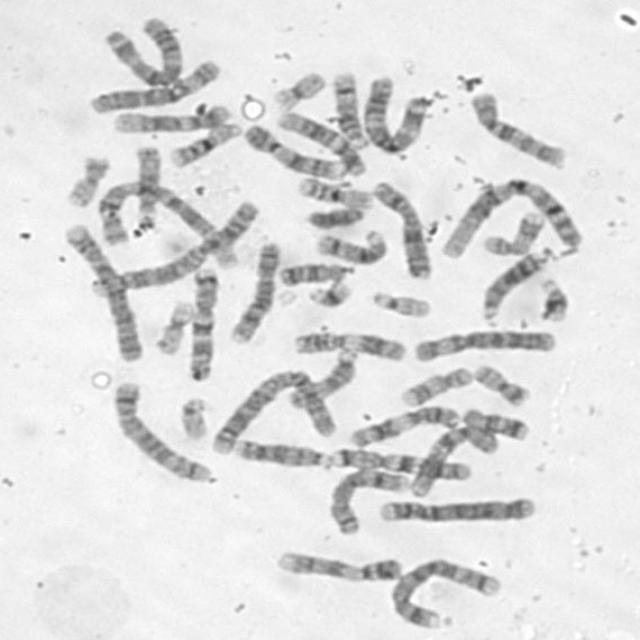A1: (90, 176, 245, 270), (438, 173, 586, 260)
A2: (84, 197, 262, 298), (204, 364, 340, 456)
A3: (97, 11, 185, 88), (359, 70, 434, 155)
B4: (56, 217, 147, 364), (374, 490, 539, 524)
B5: (107, 375, 215, 485), (385, 552, 505, 630)
C10: (464, 84, 572, 171), (402, 418, 502, 498)
C11: (343, 399, 462, 449), (286, 325, 409, 363)
C12: (272, 105, 367, 177), (109, 99, 235, 134)
C6: (84, 54, 225, 116), (409, 323, 561, 364)
C7: (326, 443, 475, 482), (183, 260, 222, 383)
C8: (324, 463, 414, 536), (223, 238, 283, 345)
C9: (238, 118, 351, 180), (271, 544, 405, 585)
D13: (477, 244, 550, 324), (229, 434, 334, 471)
D14: (326, 66, 371, 149), (310, 224, 390, 266)
D15: (283, 342, 360, 411), (131, 141, 164, 216)
E16: (164, 115, 245, 169), (293, 172, 376, 210)
E17: (396, 361, 476, 408), (478, 206, 548, 257)
E18: (457, 402, 532, 442), (274, 256, 356, 287)
F19: (149, 296, 198, 356), (267, 65, 329, 111)
F20: (467, 358, 533, 407), (59, 150, 112, 208)
G21: (533, 271, 574, 324), (302, 276, 355, 310)
G22: (365, 285, 434, 319), (174, 391, 212, 441)
X: (368, 176, 437, 280)
Y: (301, 201, 368, 231)
